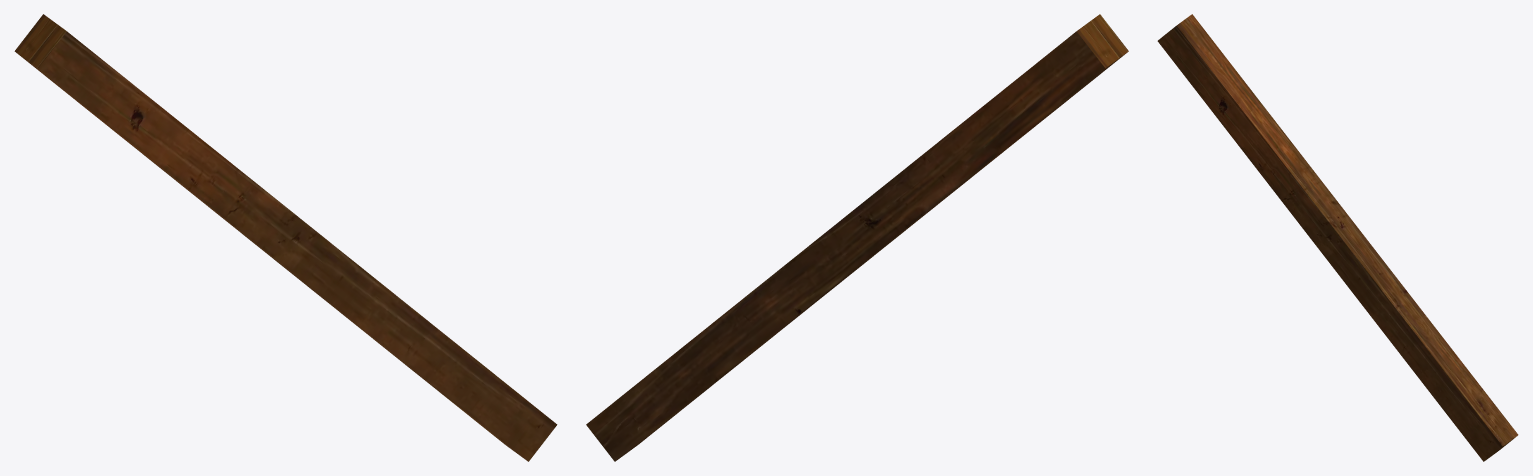
The picture shows the model from 3 angles, left to right: view 1: azimuth 30°, elevation 25°; view 2: azimuth 150°, elevation 25°; view 3: azimuth 330°, elevation 25°; orthographic projection. The views are drawn at different scales.
Visible parts, largest first — view 1: SM_BB_T2_Beam_Thin_Large_Diagonal_LOD0; view 2: SM_BB_T2_Beam_Thin_Large_Diagonal_LOD0; view 3: SM_BB_T2_Beam_Thin_Large_Diagonal_LOD0.
Boxes of the visible parts, x1=… form: SM_BB_T2_Beam_Thin_Large_Diagonal_LOD0: x1=14, y1=14, x2=557, y2=461; SM_BB_T2_Beam_Thin_Large_Diagonal_LOD0: x1=586, y1=14, x2=1128, y2=461; SM_BB_T2_Beam_Thin_Large_Diagonal_LOD0: x1=1157, y1=14, x2=1518, y2=461.
Size of the model in its own units: 3.18 by 3.18 by 0.251.
1 material, 1 textured.
